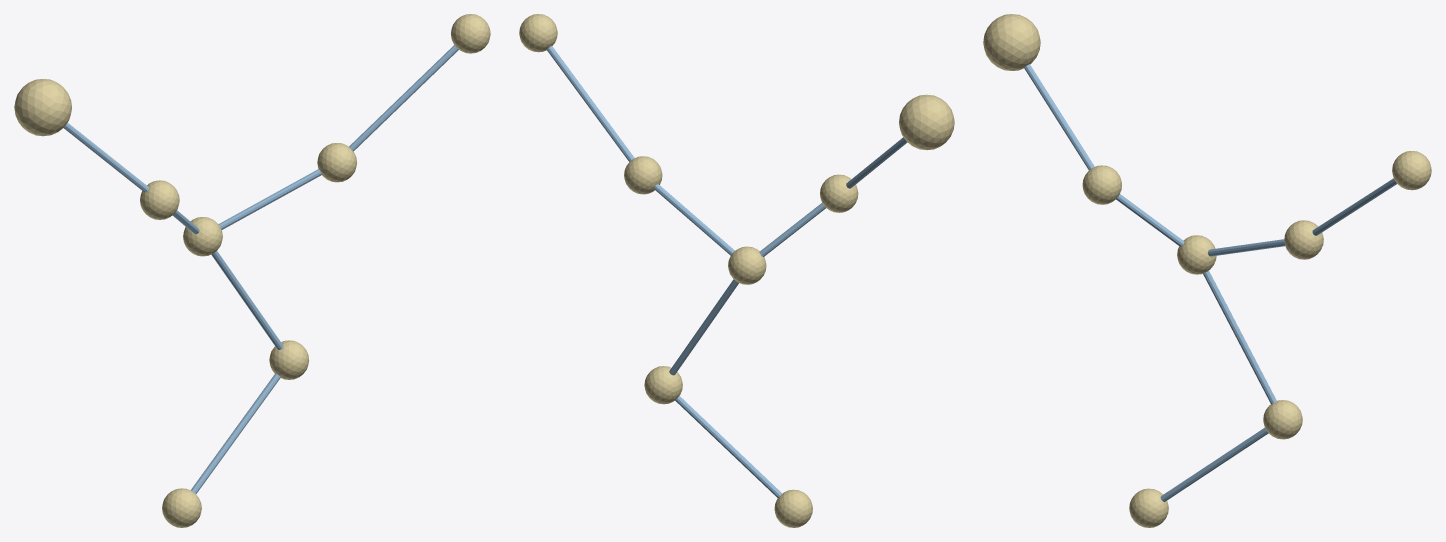
File: touro.glb
3 renders of one model, left to right at view 1: azimuth 30°, elevation 25°; view 2: azimuth 150°, elevation 25°; view 3: azimuth 330°, elevation 25°, orthographic. The views are drawn at different scales.
Parts seen in each view (by area): view 1: world; view 2: world; view 3: world.
Part boxes in pixels (x1,y1,x2,y2): world: [14, 14, 490, 527]; world: [519, 14, 954, 527]; world: [983, 14, 1431, 527].
Size of the model in its own units: 2.64 by 2.64 by 0.4614.
